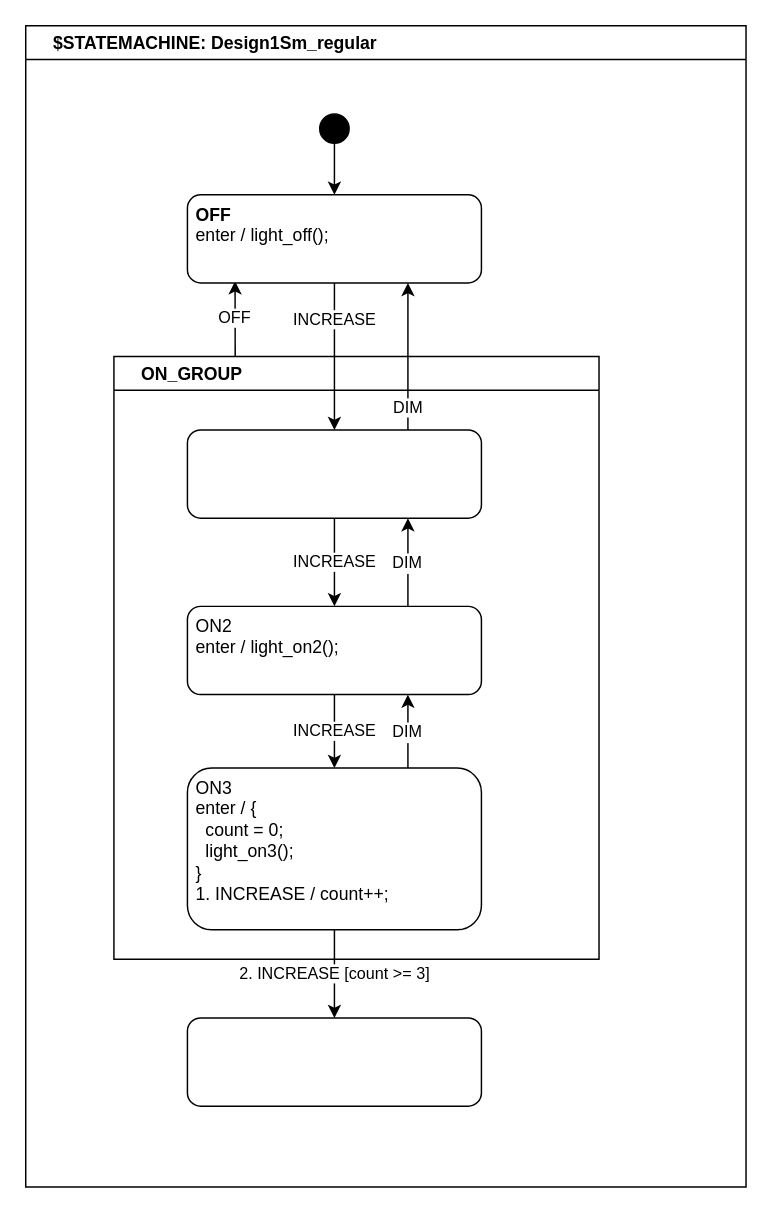
This 772x1213 diagram has some shape labels left out. The box of each missing label's shape, as (x1, y1, x2, y2) in pixels:
BOOM enter / light_boom();: (186, 1017, 481, 1106)
ON1 enter / light_on1();: (186, 429, 481, 518)
